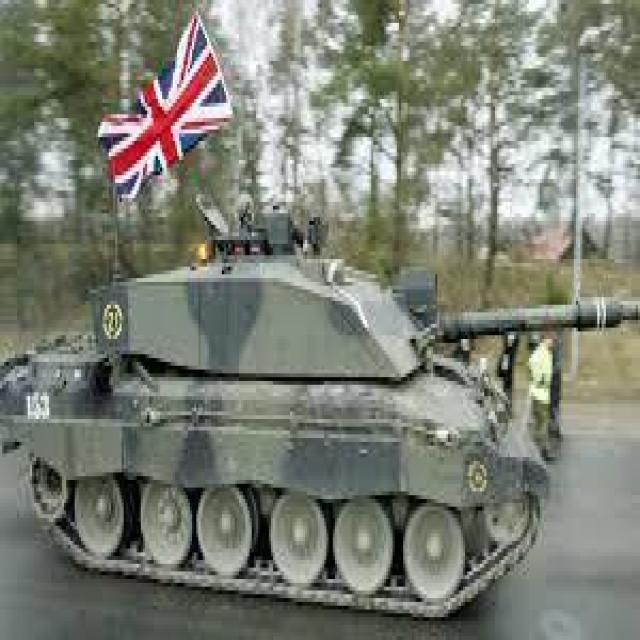Tanks: (22, 206, 566, 621)
